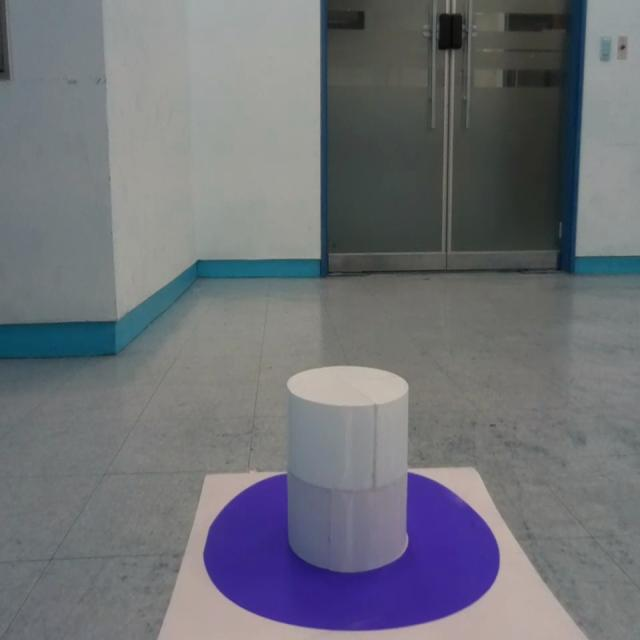cylinder: (286, 365, 411, 573)
